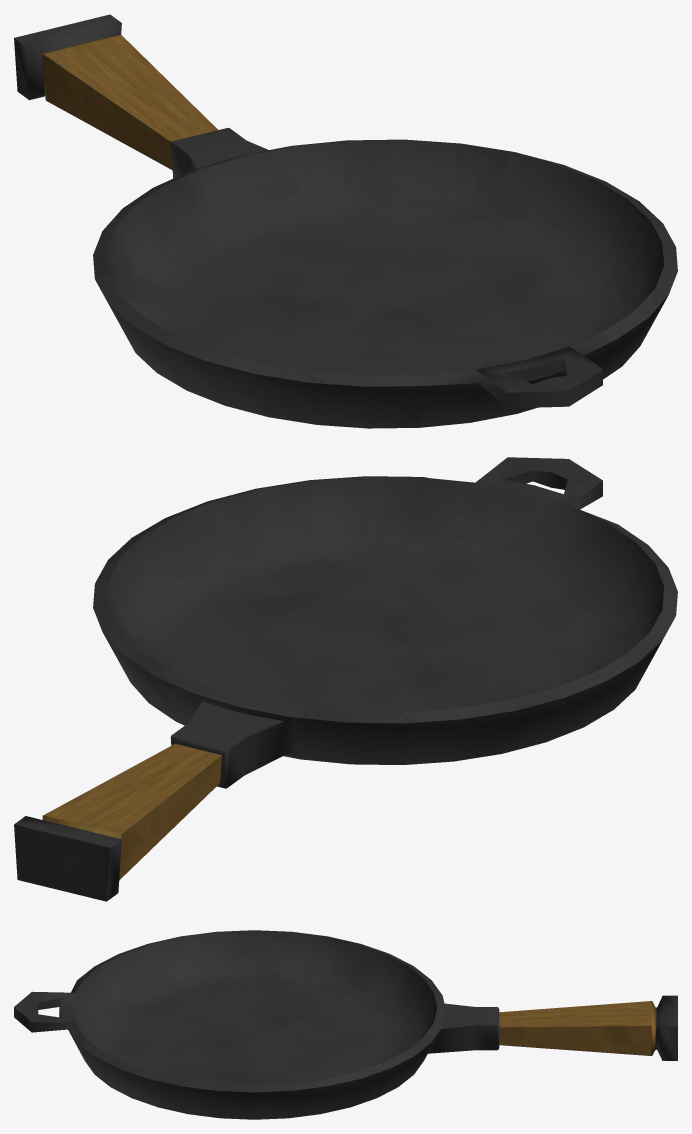
File: bk_pan_iron.glb
The picture shows the model from 3 angles, top to bottom: view 1: azimuth 30°, elevation 25°; view 2: azimuth 150°, elevation 25°; view 3: azimuth 270°, elevation 25°; orthographic projection. The views are drawn at different scales.
Visible parts, largest first — view 1: Circle.001; view 2: Circle.001; view 3: Circle.001.
Boxes of the visible parts, left/top/right/bottom form: Circle.001: left=14, top=14, right=677, bottom=428; Circle.001: left=14, top=457, right=677, bottom=901; Circle.001: left=14, top=930, right=677, bottom=1119.
Size of the model in its own units: 0.2099 by 0.0249 by 0.363.
1 material, 1 textured.
